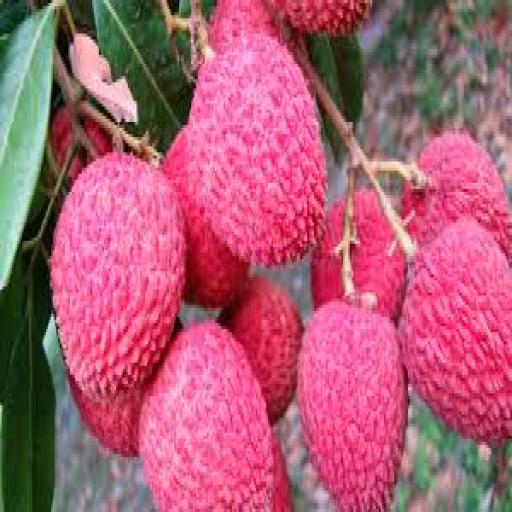lychee: (52, 153, 186, 396), (190, 34, 325, 265), (140, 324, 273, 511), (400, 220, 511, 444), (299, 302, 407, 511), (163, 128, 249, 307), (403, 132, 511, 259), (221, 278, 303, 423), (350, 189, 406, 319), (69, 375, 143, 457), (209, 0, 279, 51), (272, 0, 372, 33), (272, 433, 293, 511), (50, 107, 73, 167)
